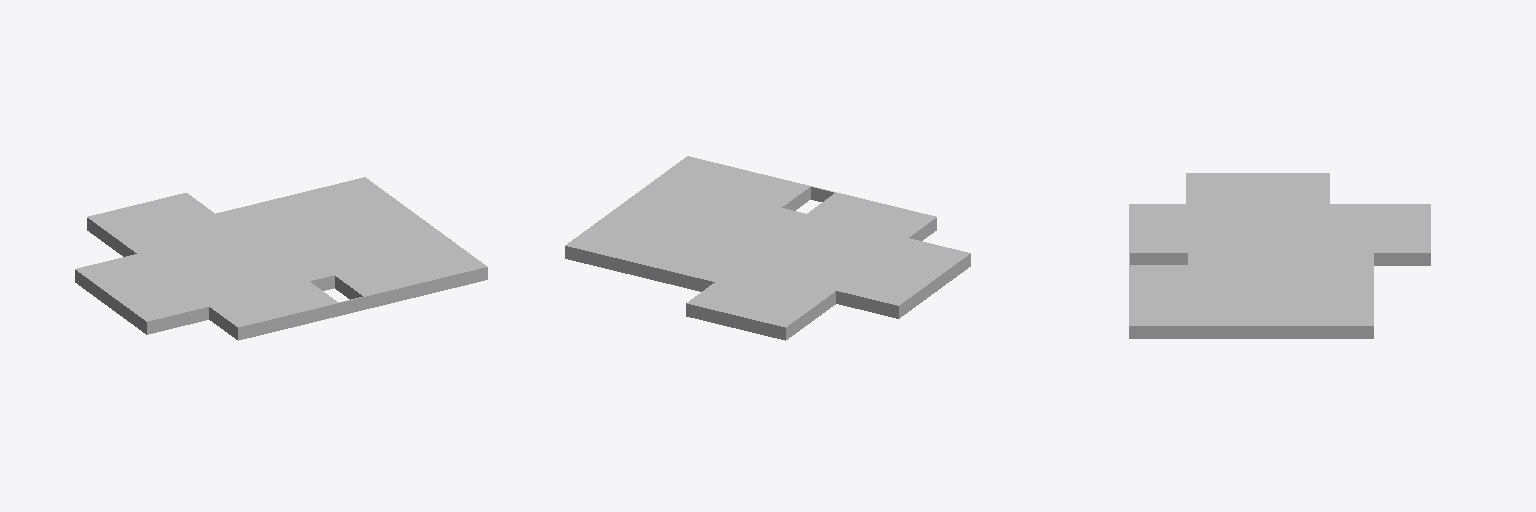
The model's file is house_1stFloor_floor.obj.
3 views of the same model, side by side, from view 1: azimuth 30°, elevation 25°; view 2: azimuth 150°, elevation 25°; view 3: azimuth 270°, elevation 25° (orthographic).
Visible parts, largest first — view 1: Cube.007_Mesh, Cube.001_Mesh, Cube.058_Mesh, Cube.016_Mesh, Cube.006_Mesh, Cube.008_Mesh, Cube.027_Mesh; view 2: Cube.007_Mesh, Cube.001_Mesh, Cube.058_Mesh, Cube.008_Mesh, Cube.027_Mesh, Cube.006_Mesh, Cube.016_Mesh; view 3: Cube.007_Mesh, Cube.001_Mesh, Cube.058_Mesh, Cube.006_Mesh, Cube.008_Mesh, Cube.027_Mesh, Cube.016_Mesh.
Boxes of the visible parts, box(x1,y1,x2,y2) form: Cube.007_Mesh: box(115, 214, 337, 340); Cube.001_Mesh: box(216, 177, 429, 260); Cube.058_Mesh: box(281, 237, 437, 315); Cube.016_Mesh: box(111, 280, 208, 334); Cube.006_Mesh: box(381, 225, 487, 291); Cube.008_Mesh: box(87, 193, 214, 249); Cube.027_Mesh: box(75, 254, 171, 307); Cube.007_Mesh: box(716, 193, 936, 318); Cube.001_Mesh: box(565, 198, 778, 291); Cube.058_Mesh: box(680, 168, 836, 234); Cube.008_Mesh: box(686, 282, 814, 340); Cube.027_Mesh: box(836, 264, 934, 318); Cube.006_Mesh: box(631, 156, 736, 209); Cube.016_Mesh: box(873, 238, 970, 291); Cube.007_Mesh: box(1129, 204, 1373, 252); Cube.001_Mesh: box(1244, 253, 1373, 338); Cube.058_Mesh: box(1129, 253, 1243, 300); Cube.006_Mesh: box(1129, 301, 1243, 338); Cube.008_Mesh: box(1374, 204, 1430, 265); Cube.027_Mesh: box(1258, 173, 1329, 203); Cube.016_Mesh: box(1186, 173, 1257, 203).
Bounding box in the file's own units: 50 × 2 × 42.